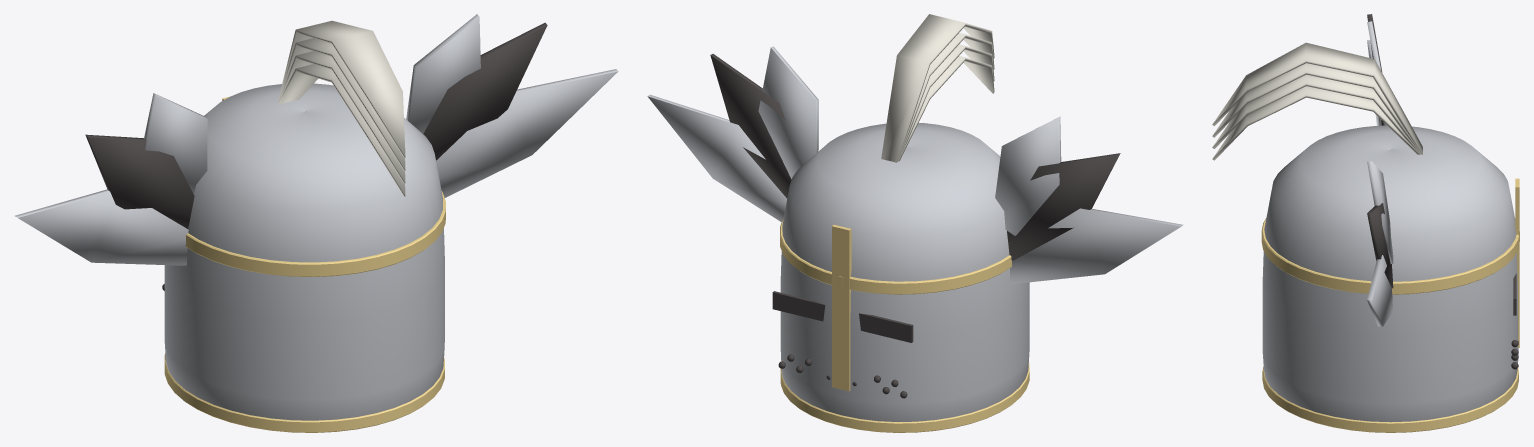
The model's file is eisenstein_head.glb.
3 renders of one model, left to right at view 1: azimuth 30°, elevation 25°; view 2: azimuth 150°, elevation 25°; view 3: azimuth 270°, elevation 25°, orthographic. The views are drawn at different scales.
Parts seen in each view (by area): view 1: G_eisenstein_head; view 2: G_eisenstein_head; view 3: G_eisenstein_head.
Part boxes in pixels (x1=…): G_eisenstein_head: x1=15, y1=14, x2=618, y2=432; G_eisenstein_head: x1=647, y1=14, x2=1182, y2=432; G_eisenstein_head: x1=1212, y1=14, x2=1519, y2=432.
Size of the model in its own units: 0.7294 by 0.4307 by 0.3643.
